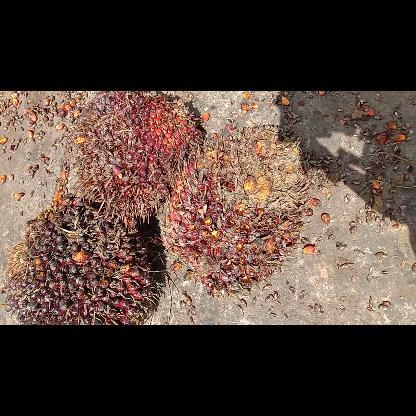Kurang masak: (163, 128, 315, 296)
TBS masak: (3, 196, 158, 324), (68, 94, 206, 222)
